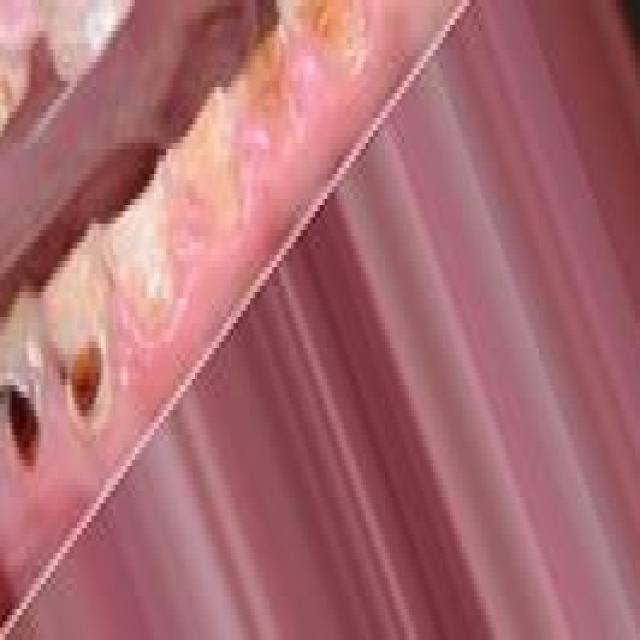caries: (176, 80, 241, 232), (232, 8, 297, 156), (59, 320, 114, 432), (0, 345, 47, 474)
